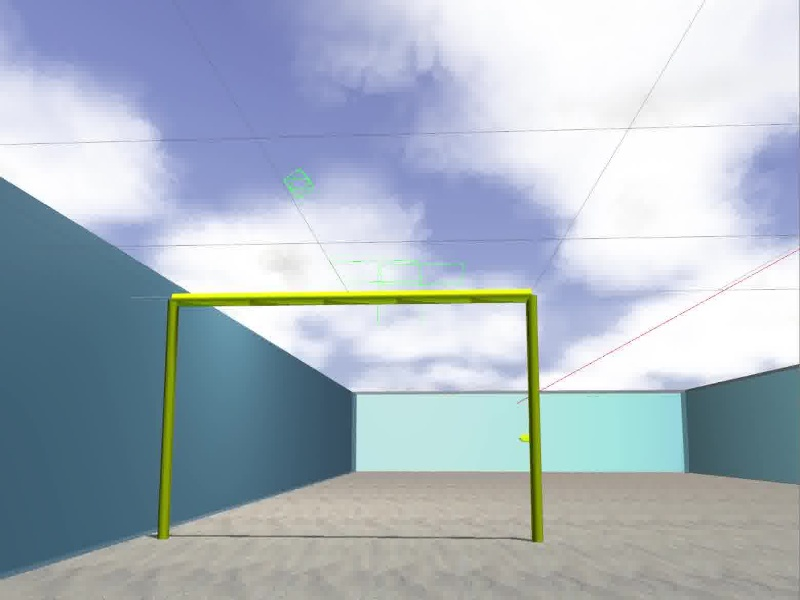gate: (155, 288, 545, 544)
